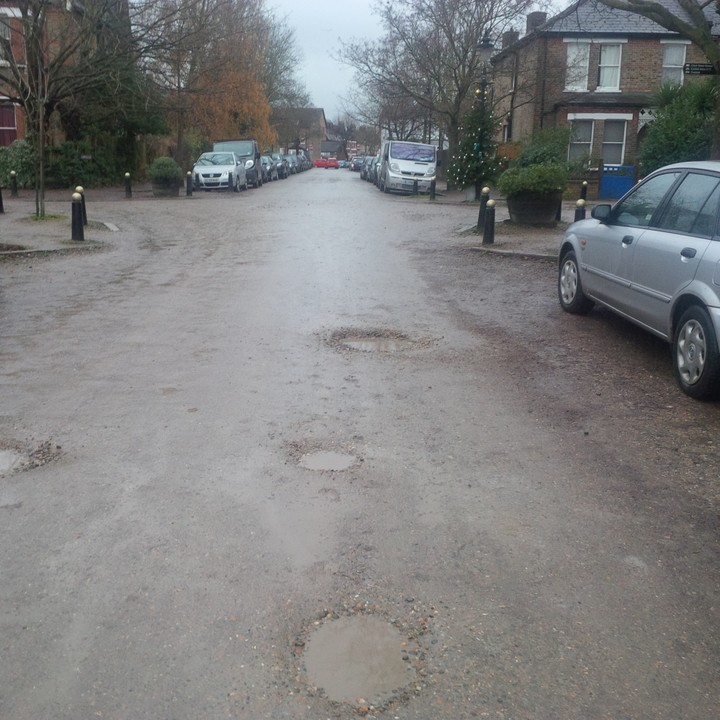pothole: (267, 590, 449, 719), (275, 419, 373, 497), (326, 300, 419, 362), (1, 415, 55, 477)
